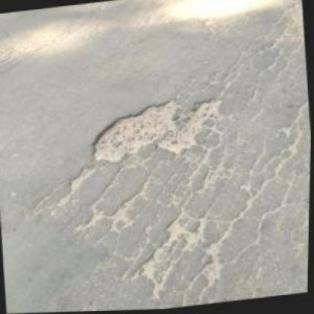Hueco: (86, 93, 227, 167)
